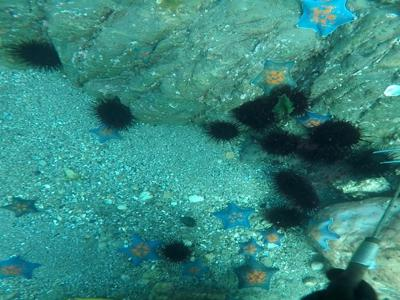urchin: (4, 35, 66, 75), (275, 167, 322, 213), (88, 95, 137, 131), (234, 97, 276, 133), (311, 121, 364, 147), (344, 149, 380, 183), (273, 84, 308, 117), (259, 127, 296, 158), (266, 205, 304, 232), (302, 138, 340, 165), (203, 119, 236, 142), (161, 238, 189, 263)
